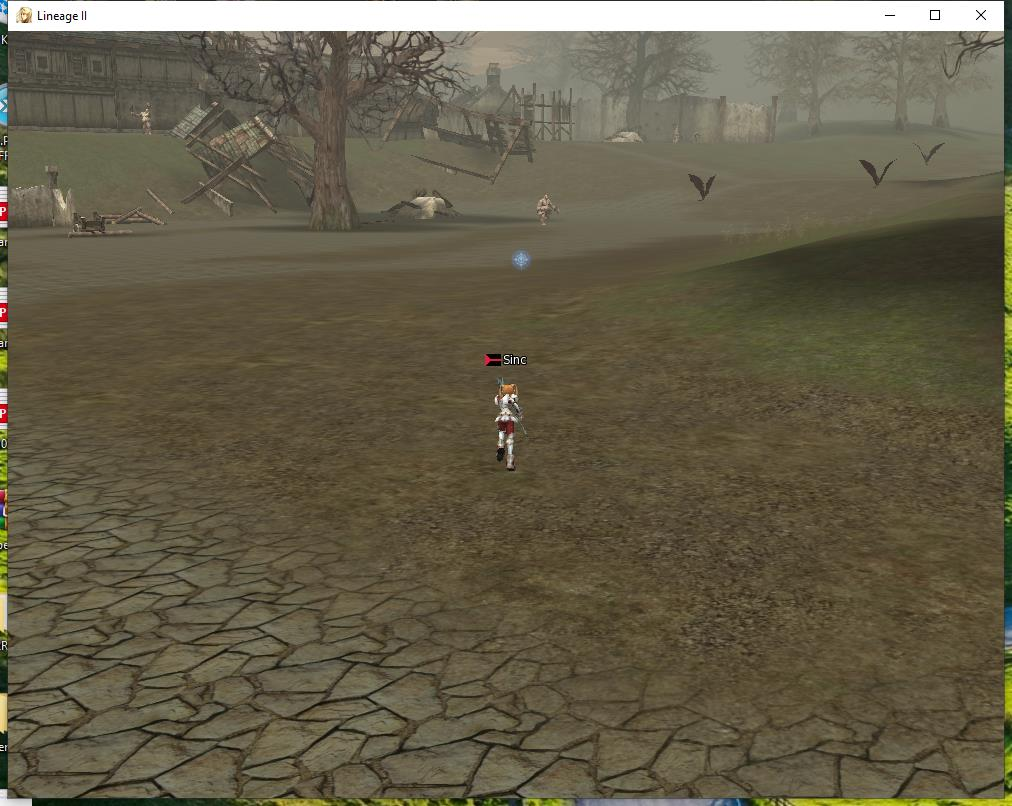monster: (855, 151, 901, 200), (685, 168, 723, 206), (911, 135, 947, 174), (537, 193, 566, 228)
